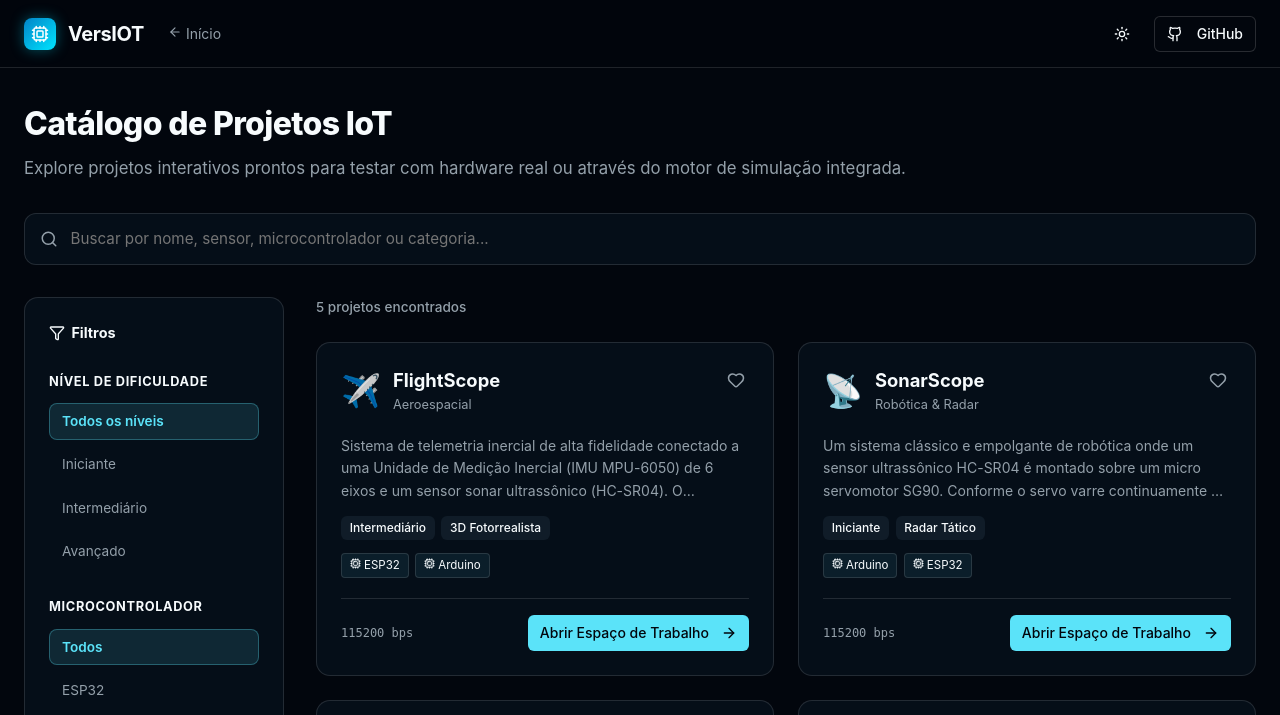
Test: App Routing & Layouts › renders Catalog Page on route /projetos with search and filters
Expected: the heading "Catálogo de Projetos IoT" is shown, [24,104,392,143]
Expected: the heading "FlightScope" is shown, [393,367,500,395]
Note: Testa filtro textual de busca
Type "Terrário" into the field with placeholder "Buscar por nome, sensor, microcontrolador ou categoria..." at (640, 239), box [24,213,1256,265]
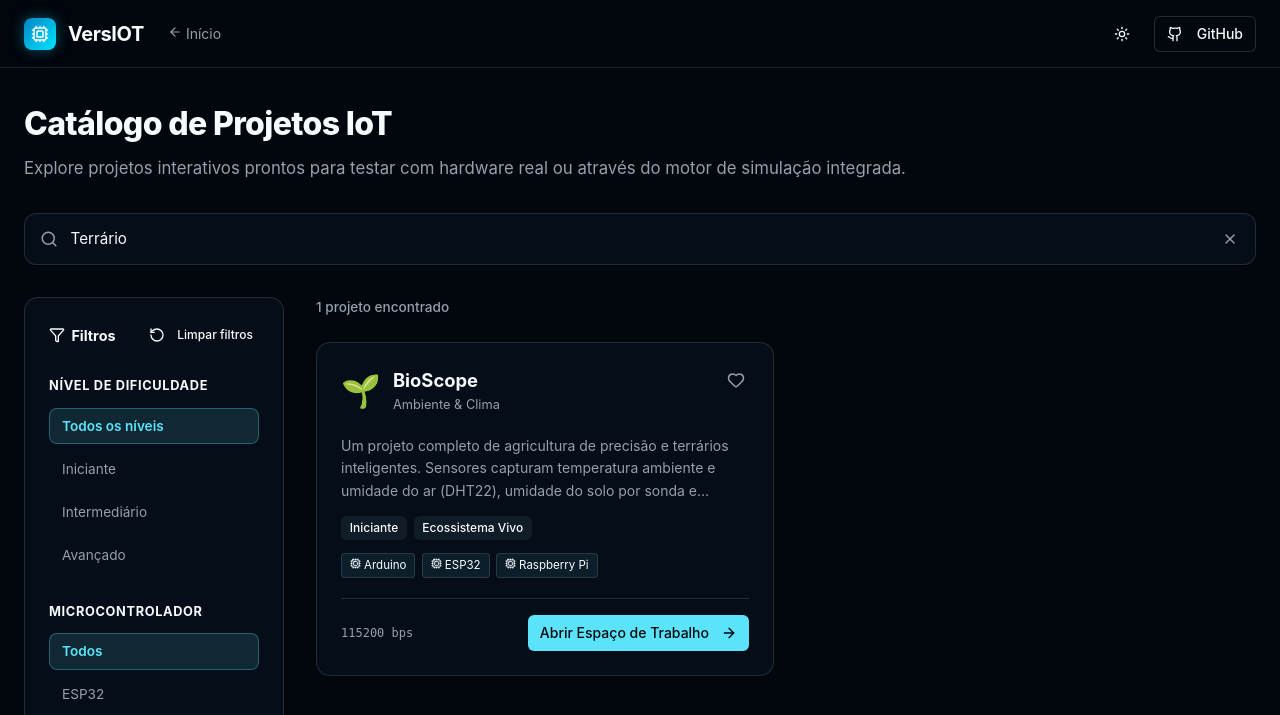
Expected: the heading "BioScope" is shown, [393,369,478,391]
Expected: the heading "FlightScope" is gone
